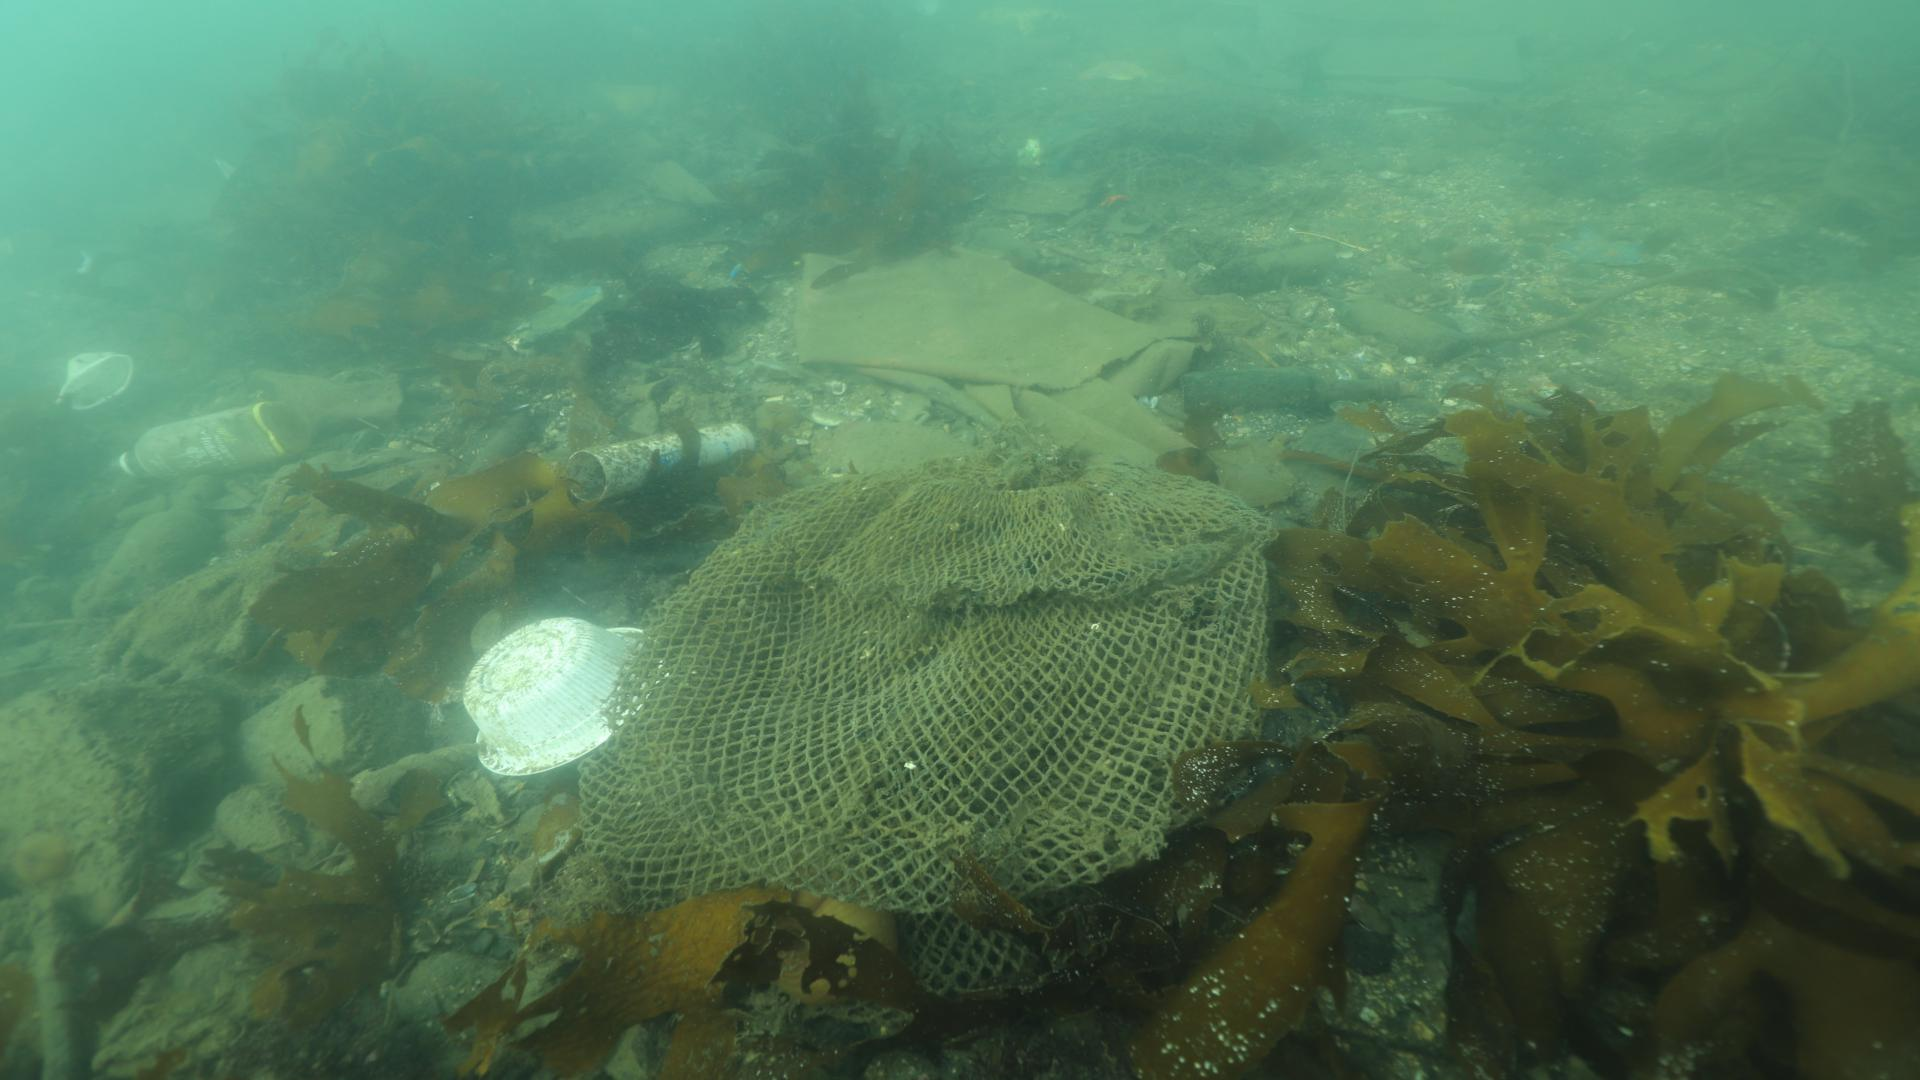fish net: (576, 444, 1279, 994)
